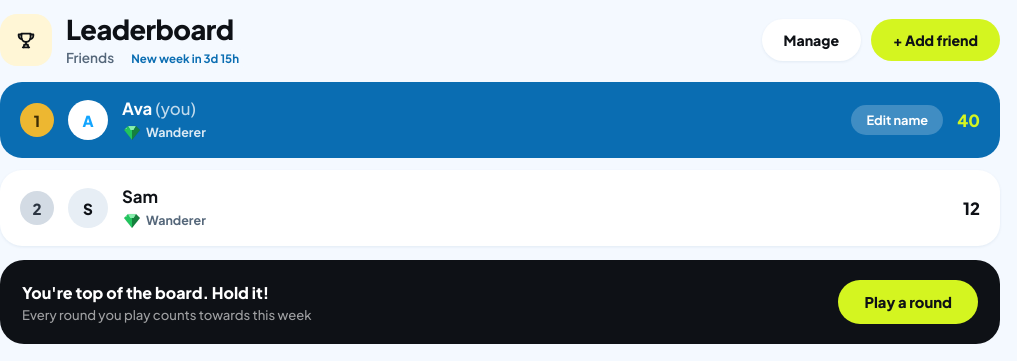
Test case: LeaderboardScreen › reveals remove buttons only while managing, each naming its friend
Click the button with class "board-manage" at x=811, y=40, box x1=762 y1=19 x2=861 y2=61
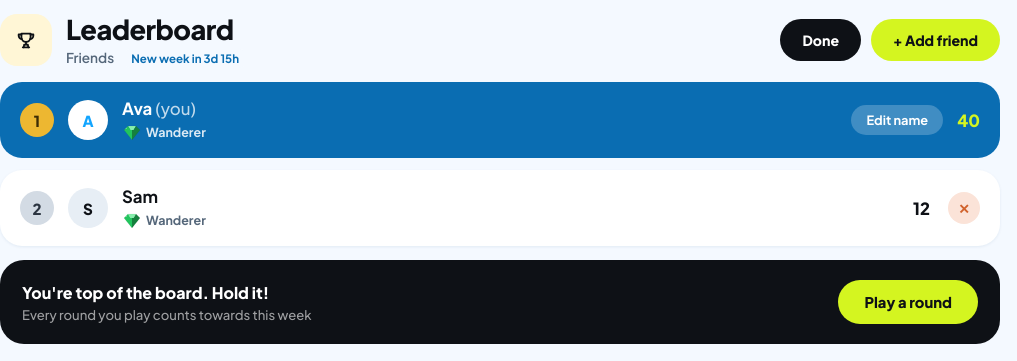
Expected: the button with class "board-rename" reads "Edit name", x1=852 y1=105 x2=943 y2=135
Expected: the number of buttons with class "board-remove" is 1, x1=948 y1=192 x2=980 y2=224
